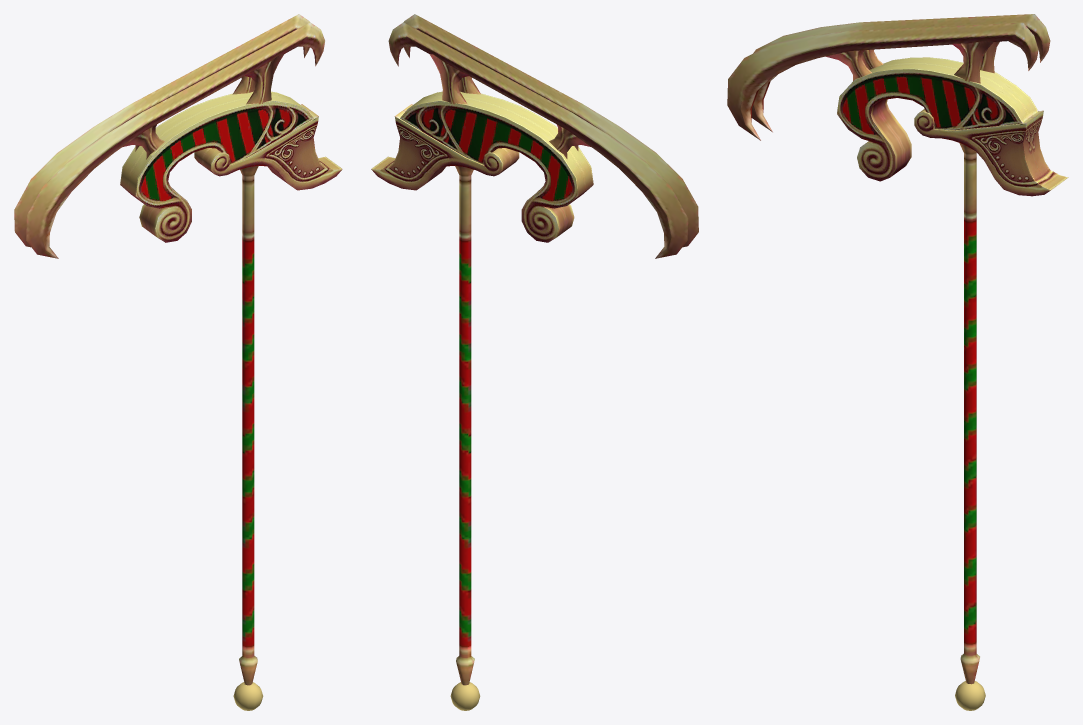
File: Weapon31_A.FBX
The picture shows the model from 3 angles, left to right: view 1: azimuth 30°, elevation 25°; view 2: azimuth 150°, elevation 25°; view 3: azimuth 330°, elevation 25°; orthographic projection. The views are drawn at different scales.
Parts seen in each view (by area): view 1: Weapon31_A; view 2: Weapon31_A; view 3: Weapon31_A.
Boxes of the visible parts, x1,y1,x2,y2 form: Weapon31_A: (14,14,342,710); Weapon31_A: (371,14,698,710); Weapon31_A: (727,14,1068,710).
Size of the model in its own units: 106 by 218 by 10.77.
